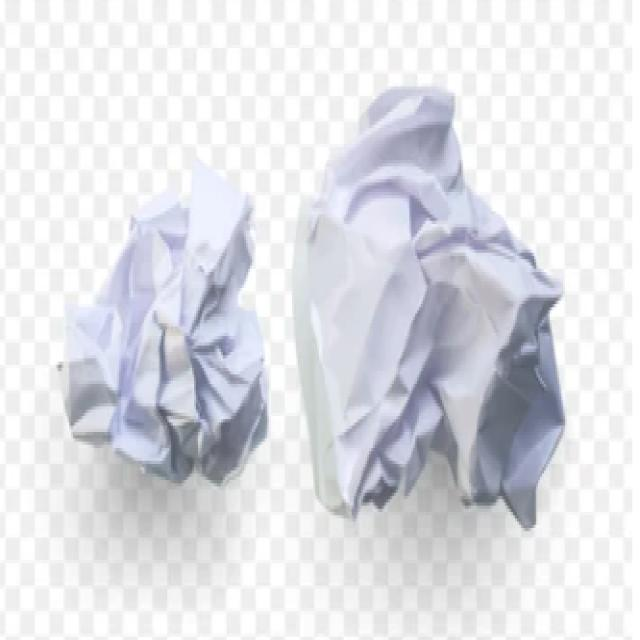KertasBekas: (290, 80, 565, 528), (60, 154, 267, 486)
